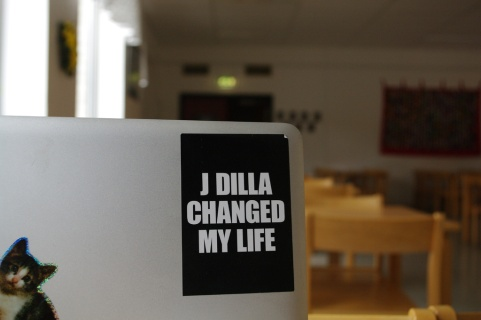Cat: (0, 238, 56, 319)
